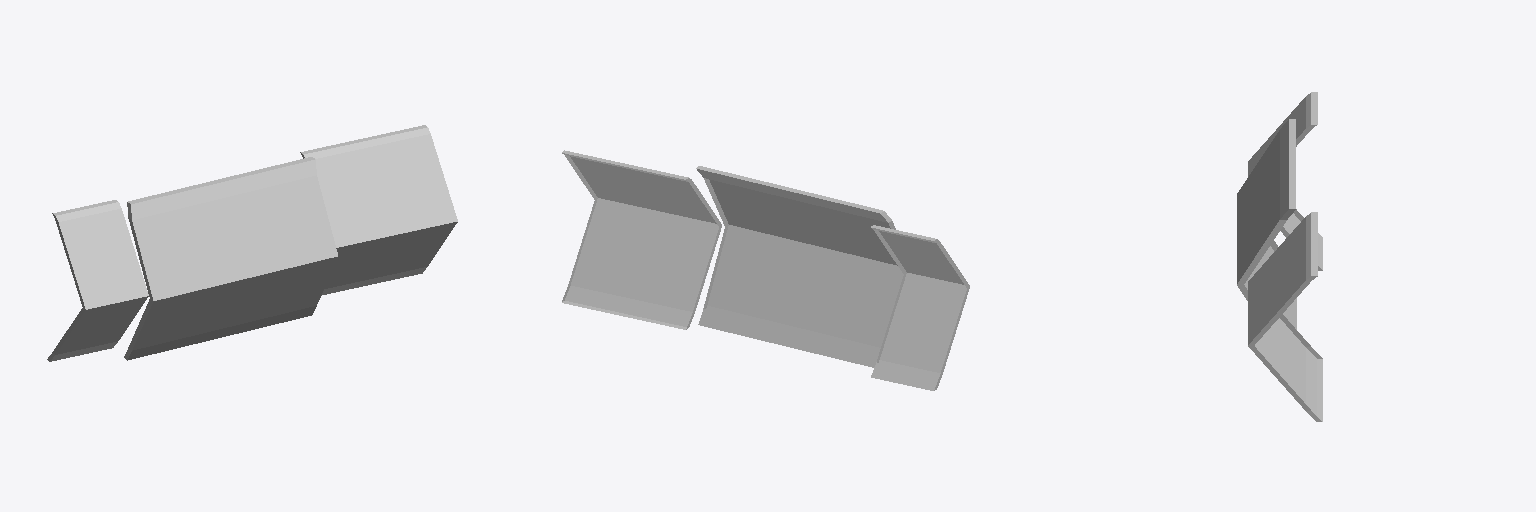
File: purple roof.obj
The picture shows the model from 3 angles: view 1: azimuth 30°, elevation 25°; view 2: azimuth 150°, elevation 25°; view 3: azimuth 270°, elevation 25°; orthographic projection.
Parts seen in each view (by area): view 1: Object.2, Object.1, Object.3; view 2: Object.2, Object.1, Object.3; view 3: Object.1, Object.2, Object.3.
Boxes of the visible parts, x1,y1,x2,y2 form: Object.2: [124, 157, 337, 360]; Object.1: [300, 125, 457, 295]; Object.3: [47, 200, 148, 361]; Object.2: [696, 166, 903, 367]; Object.1: [562, 150, 721, 329]; Object.3: [871, 225, 969, 390]; Object.1: [1248, 212, 1322, 421]; Object.2: [1237, 119, 1296, 329]; Object.3: [1248, 92, 1322, 270].
Size of the model in its own units: 109 by 43.14 by 21.77.